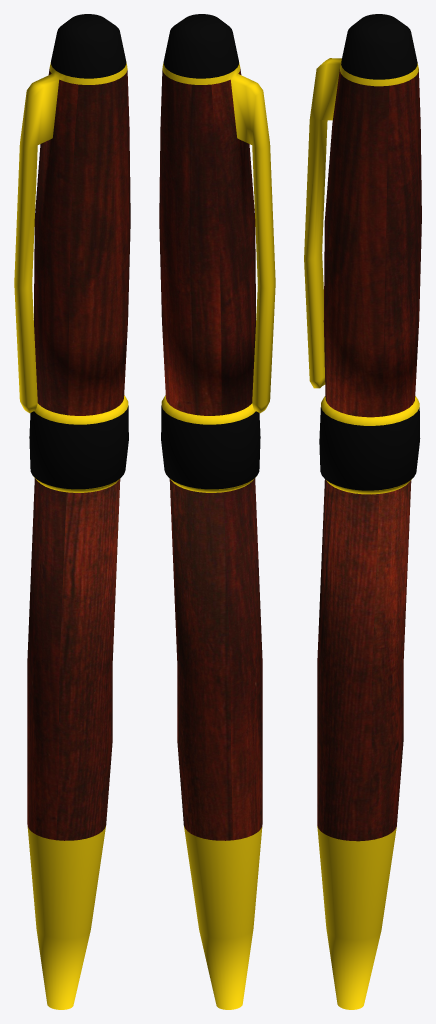
The model's file is pen.glb.
3 views of the same model, side by side, from view 1: azimuth 30°, elevation 25°; view 2: azimuth 150°, elevation 25°; view 3: azimuth 330°, elevation 25° (orthographic).
Visible parts, largest first — view 1: Cylinder; view 2: Cylinder; view 3: Cylinder.
Part boxes in pixels (left/top/right/bottom): Cylinder: left=14, top=14, right=130, bottom=1009; Cylinder: left=159, top=14, right=275, bottom=1009; Cylinder: left=304, top=14, right=421, bottom=1009.
Bounding box in the file's own units: 1.24 × 10.86 × 1.
Materials: 3 (1 with a texture image).
